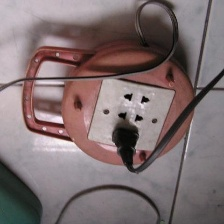three_eye_plug: (57, 37, 200, 173)
